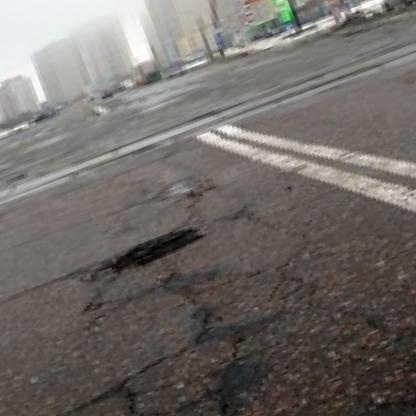pothole: (102, 220, 208, 281)
